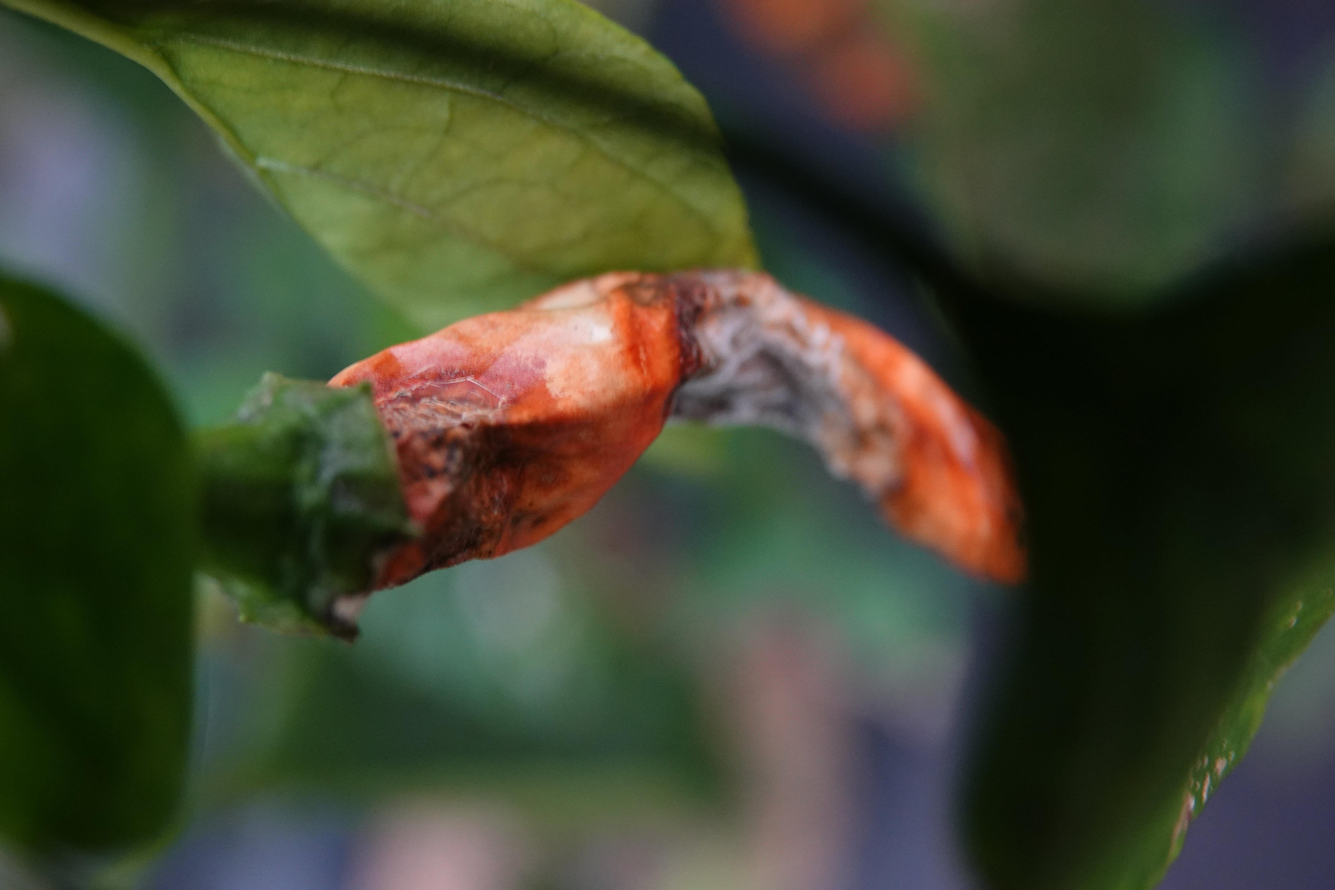Busuk Buah Antraknosa: (185, 262, 1029, 644)
